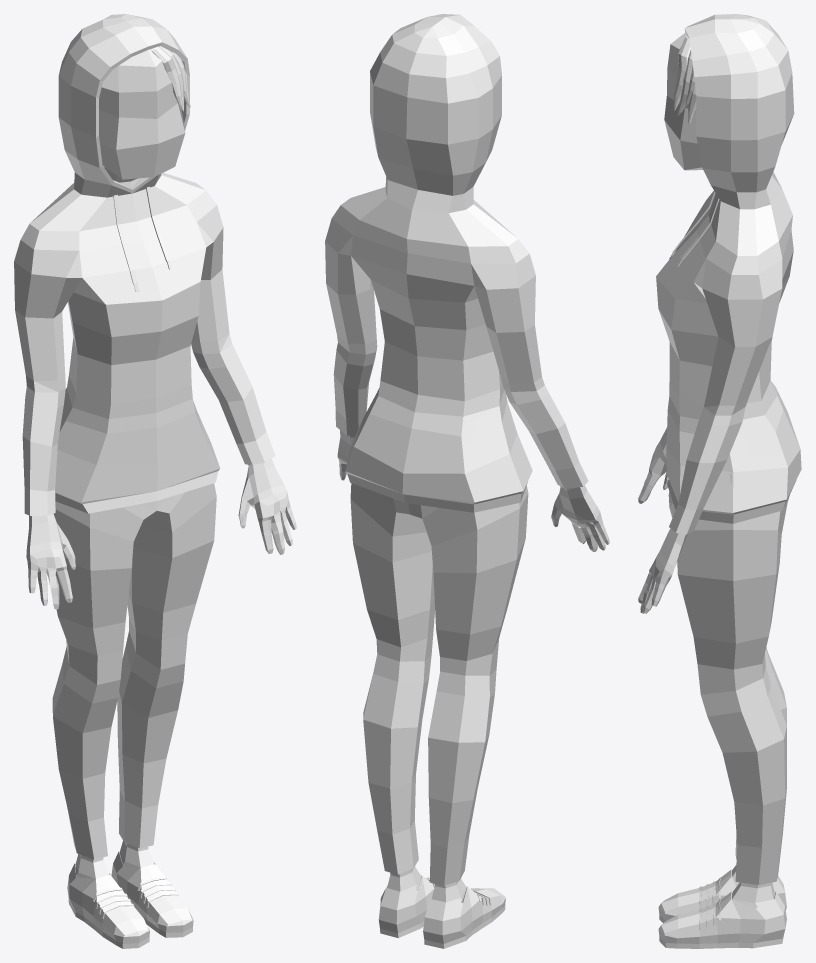
The model's file is WomanUpdated.fbx.
3 renders of one model, left to right at view 1: azimuth 30°, elevation 25°; view 2: azimuth 150°, elevation 25°; view 3: azimuth 270°, elevation 25°, orthographic.
Parts seen in each view (by area): view 1: Base; view 2: Base; view 3: Base.
Part boxes in pixels (<box>): Base: <box>14,14,296,948</box>; Base: <box>325,14,609,948</box>; Base: <box>638,14,801,948</box>.
Bounding box in the file's own units: 51.73 × 166 × 27.01.
8 materials, 8 textured.
